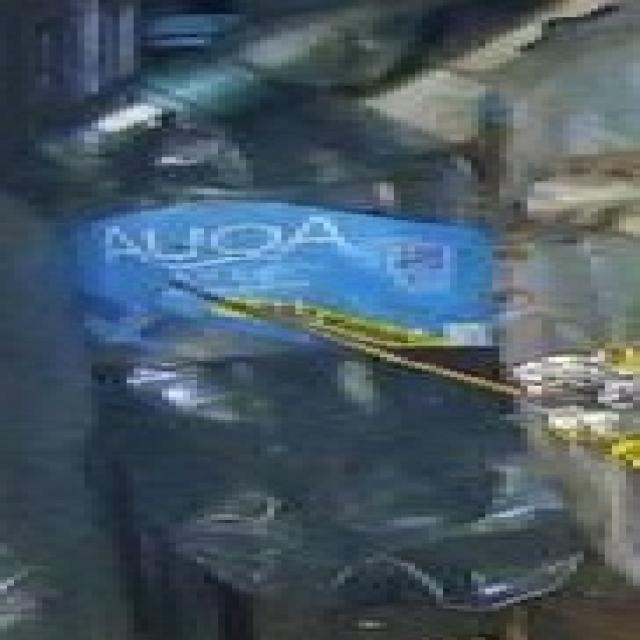litter: (31, 48, 614, 625)
